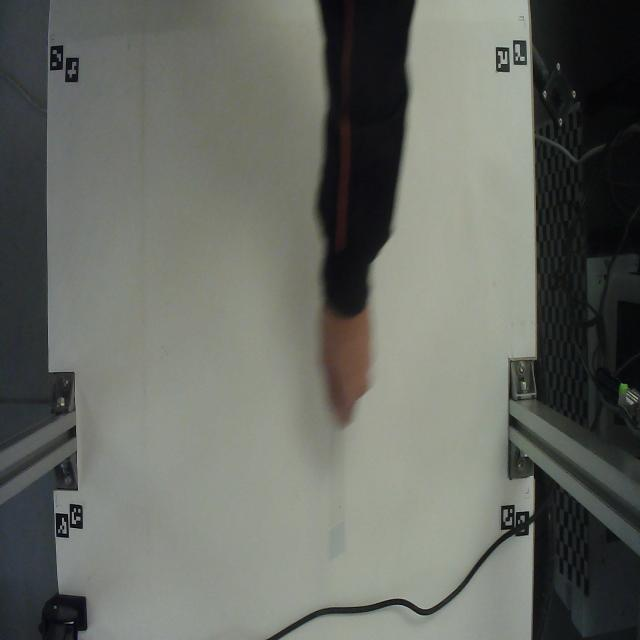NoPres: (323, 414, 353, 582)
